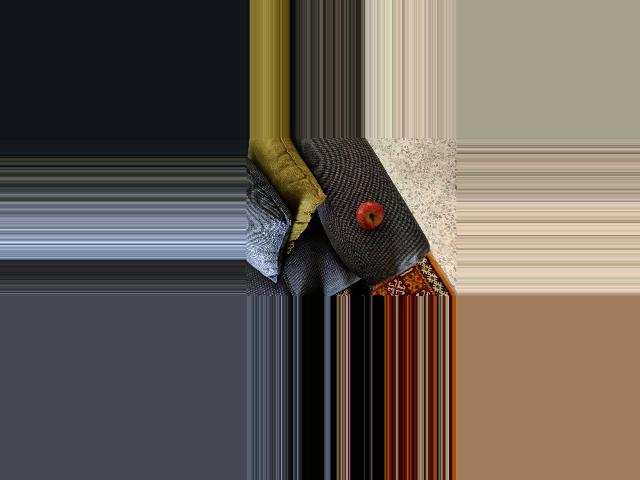apple: (353, 201, 384, 232)
